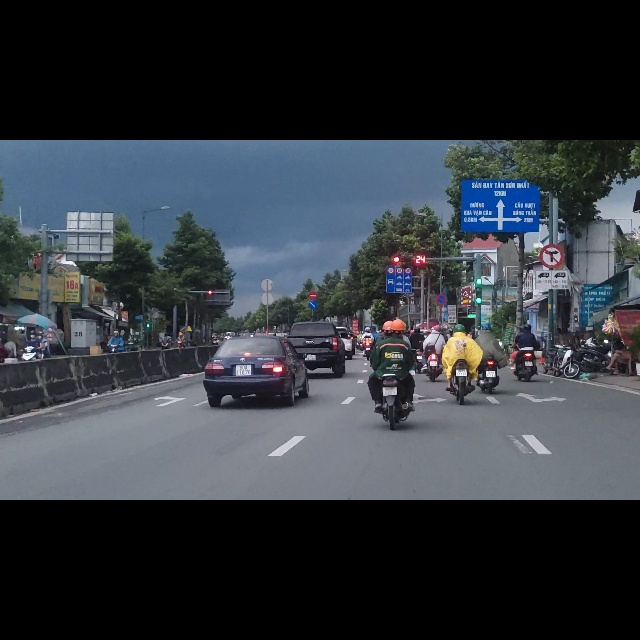bien_cam: (540, 185, 563, 228), (386, 238, 412, 272), (436, 273, 447, 292), (309, 267, 317, 284), (309, 286, 318, 300), (387, 226, 394, 238), (396, 226, 403, 238), (405, 226, 411, 237)
